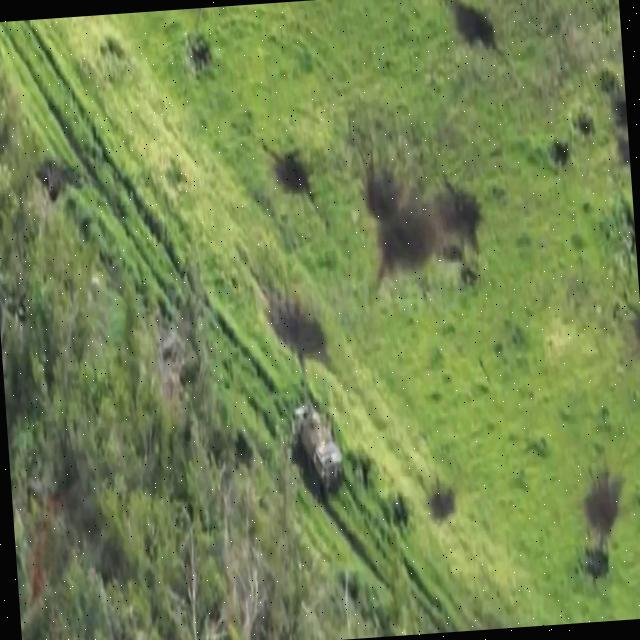APC: (290, 390, 349, 510)
